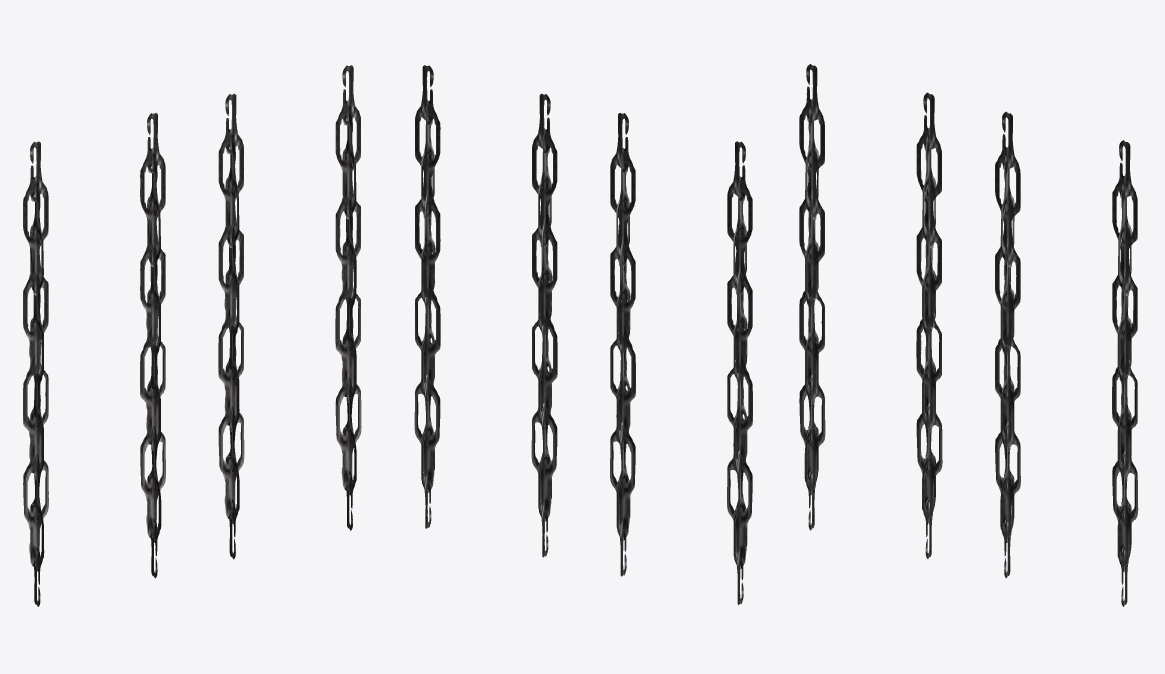
The model's file is chain.fbx.
The picture shows the model from 3 angles, left to right: view 1: azimuth 30°, elevation 25°; view 2: azimuth 150°, elevation 25°; view 3: azimuth 330°, elevation 25°; orthographic projection.
Visible parts, largest first — view 1: Chain 2; view 2: Chain 2; view 3: Chain 2.
Boxes of the visible parts, x1,y1,x2,y2 form: Chain 2: (23,65,361,606); Chain 2: (414,65,752,604); Chain 2: (799,64,1138,606).
Bounding box in the file's own units: 178 × 263 × 22.17.
